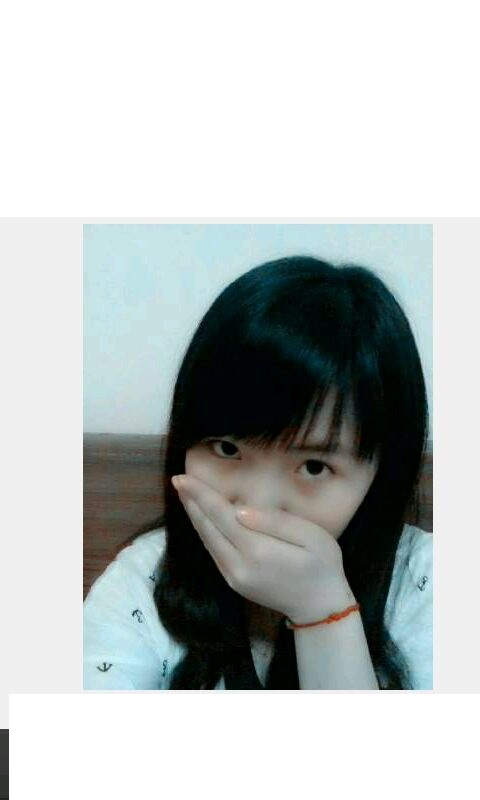face: (189, 373, 368, 596)
